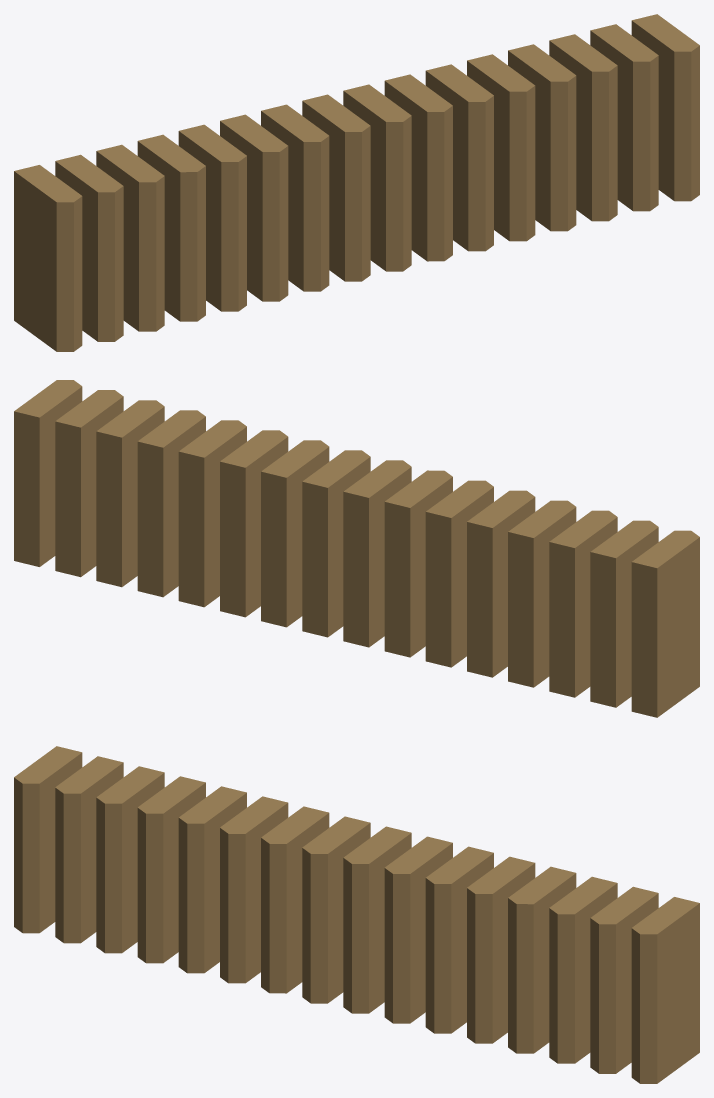
Rendered from Books.fbx.
3 renders of one model, top to bottom at view 1: azimuth 30°, elevation 25°; view 2: azimuth 150°, elevation 25°; view 3: azimuth 330°, elevation 25°, orthographic.
Visible parts, largest first — view 1: Cube.027; view 2: Cube.027; view 3: Cube.027.
Part boxes in pixels (x1,y1,x2,y2): Cube.027: (14,14,699,351); Cube.027: (14,380,699,717); Cube.027: (14,746,699,1083).
Size of the model in its own units: 450 by 100 by 56.91.
